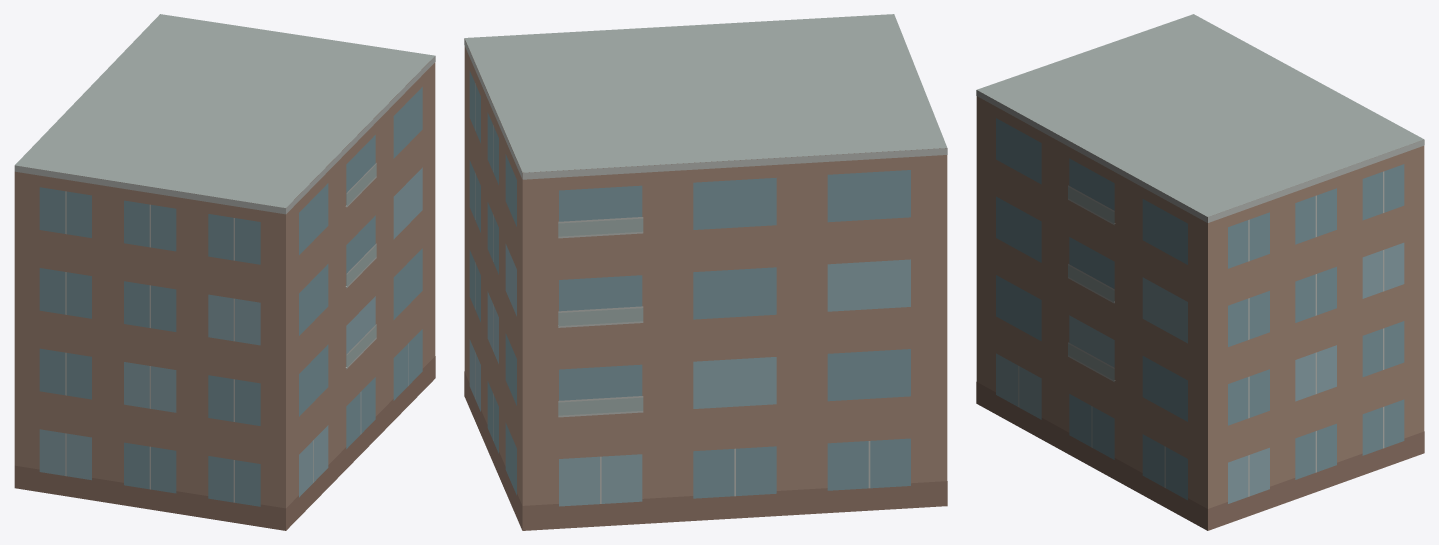
The model's file is survey-upis-32816428.glb.
3 renders of one model, left to right at view 1: azimuth 30°, elevation 25°; view 2: azimuth 150°, elevation 25°; view 3: azimuth 270°, elevation 25°, orthographic. The views are drawn at different scales.
Visible parts, largest first — view 1: survey-upis-32816428.tmp; view 2: survey-upis-32816428.tmp; view 3: survey-upis-32816428.tmp.
Boxes of the visible parts, bbox=[...] form: survey-upis-32816428.tmp: bbox=[14, 14, 435, 530]; survey-upis-32816428.tmp: bbox=[464, 14, 947, 530]; survey-upis-32816428.tmp: bbox=[976, 14, 1424, 530].
Bounding box in the file's own units: 17.5 × 12.6 × 16.31.
